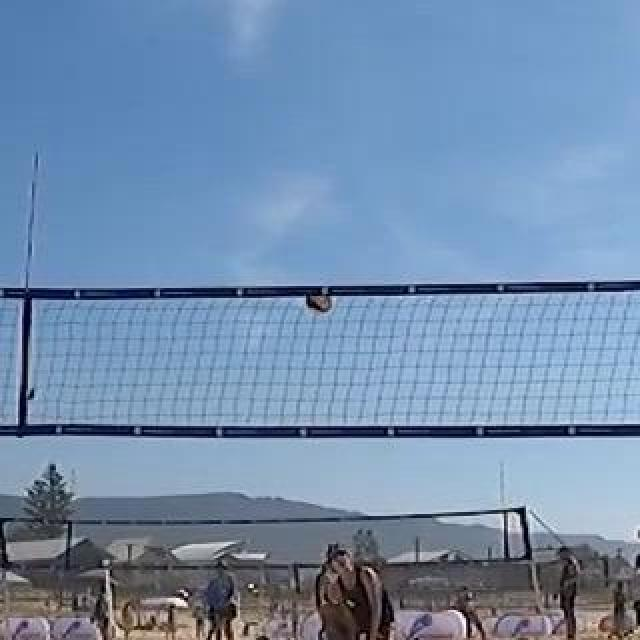volleyball: (309, 287, 335, 313)
